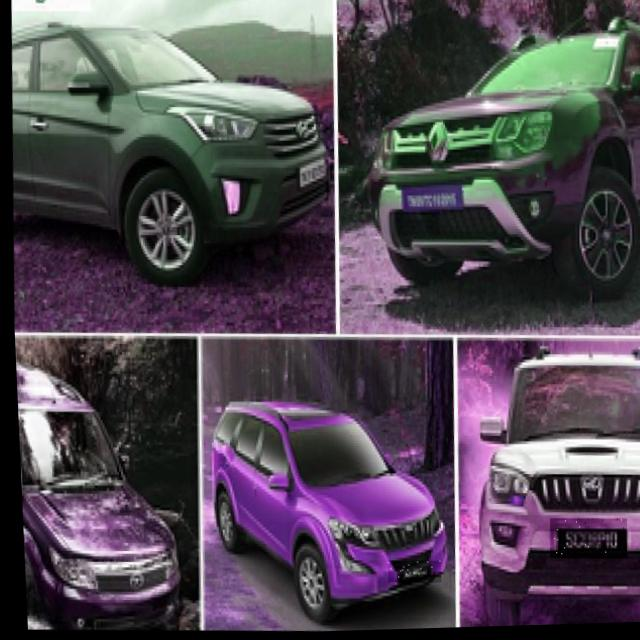license_plate: (543, 519, 623, 564), (381, 561, 436, 586)
